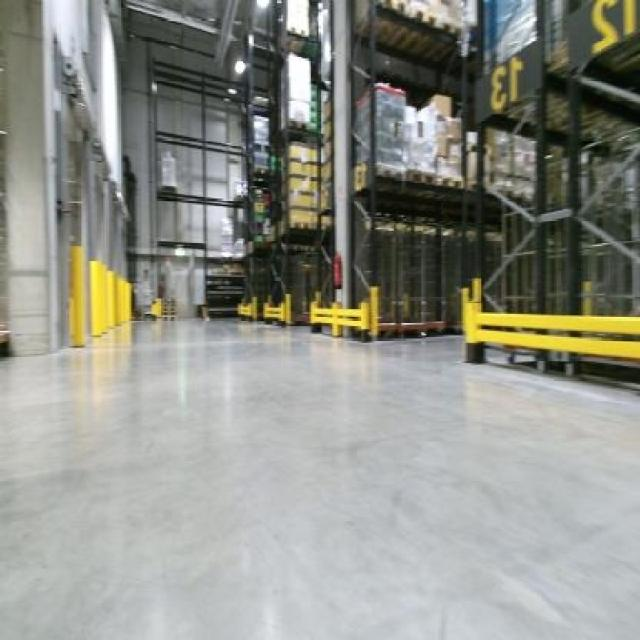floor: (0, 318, 637, 637)
